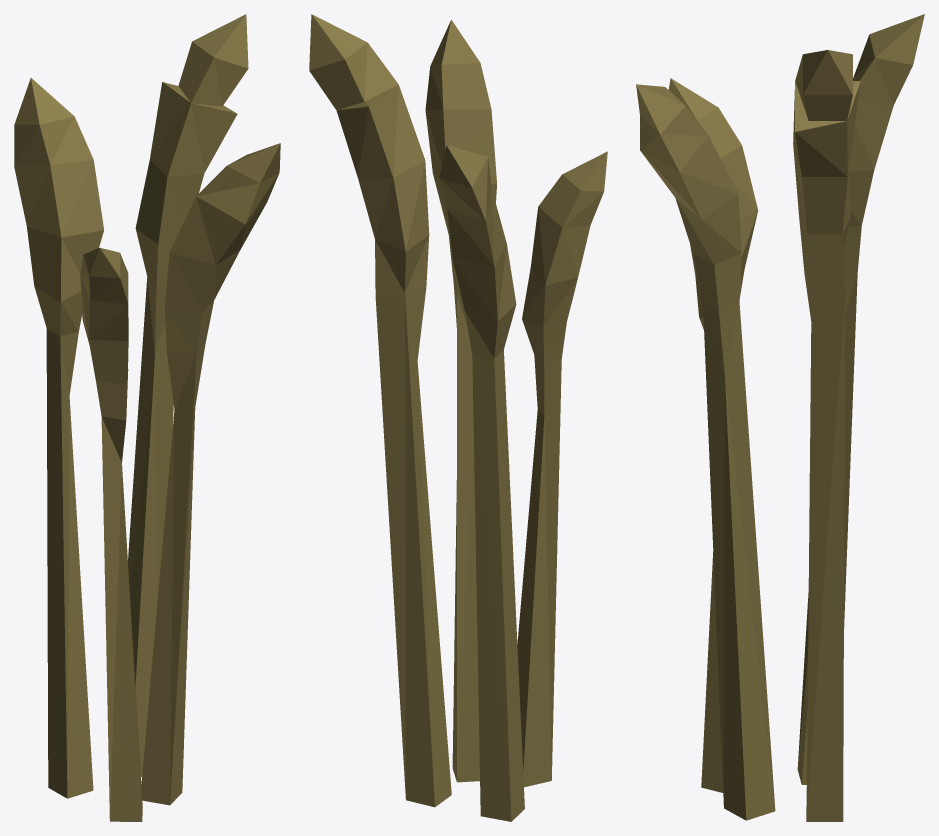
File: plant_wheat_2.glb
3 views of the same model, side by side, from view 1: azimuth 30°, elevation 25°; view 2: azimuth 150°, elevation 25°; view 3: azimuth 270°, elevation 25° (orthographic). The views are drawn at different scales.
Parts seen in each view (by area): view 1: plant_wheat_2; view 2: plant_wheat_2; view 3: plant_wheat_2.
Boxes of the visible parts, bbox=[...] form: plant_wheat_2: bbox=[14, 14, 280, 821]; plant_wheat_2: bbox=[309, 14, 607, 821]; plant_wheat_2: bbox=[636, 14, 924, 821].
Size of the model in its own units: 0.347 by 1.1 by 0.3486.
